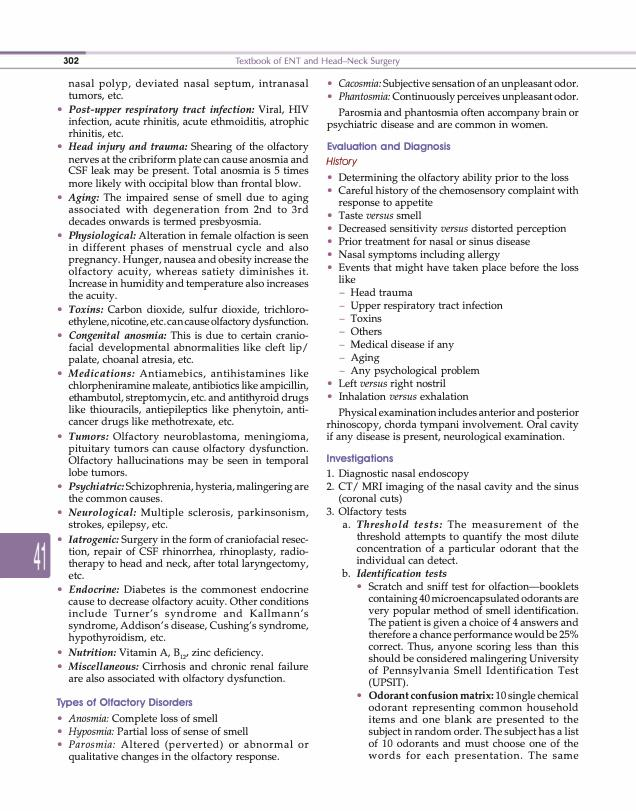header: (234, 55, 401, 67)
list: (56, 77, 311, 687), (323, 466, 585, 768), (340, 518, 584, 765), (326, 172, 580, 402), (354, 580, 582, 765), (337, 287, 504, 378), (56, 712, 310, 765), (326, 76, 579, 105)
sub-section-heading: (67, 104, 254, 116), (55, 697, 195, 709), (326, 140, 452, 153), (68, 141, 188, 154), (368, 690, 494, 701), (68, 329, 167, 342), (355, 568, 448, 581), (67, 506, 137, 519), (326, 452, 395, 465), (355, 519, 443, 529), (67, 230, 137, 242), (68, 480, 125, 493), (67, 661, 139, 671), (68, 368, 135, 378), (68, 534, 119, 547), (68, 584, 120, 595), (67, 647, 117, 657), (67, 431, 110, 441), (325, 156, 358, 168), (67, 192, 100, 204), (67, 303, 103, 314)
text: (325, 406, 580, 444), (326, 106, 580, 133)
